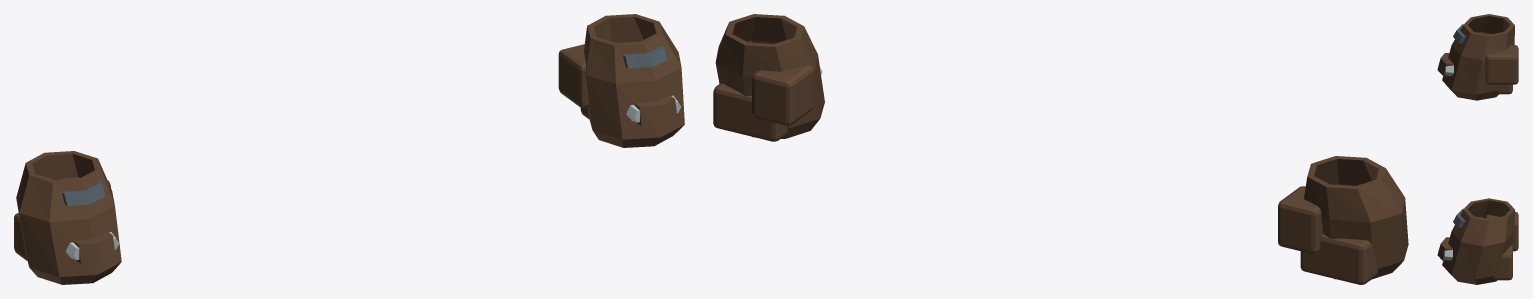
The model's file is studded_hands-male-thickHide.glb.
3 views of the same model, side by side, from view 1: azimuth 30°, elevation 25°; view 2: azimuth 150°, elevation 25°; view 3: azimuth 270°, elevation 25° (orthographic). The views are drawn at different scales.
Visible parts, largest first — view 1: Block hand armor -1, Block hand armor 1, Block thumb armor 1, Heavy hide binding Block hand armor 1, Heavy hide binding Block hand armor -1, Glove turned wrist seam 1, Glove turned wrist seam -1; view 2: Block hand armor -1, Block hand armor 1, Block thumb armor 1, Block hand curl armor -1, Block thumb armor -1, Block hand curl armor 1; view 3: Block hand armor 1, Block hand armor -1, Block thumb armor -1, Block hand curl armor 1, Block thumb armor 1, Heavy hide binding Block hand armor -1, Heavy hide binding Block hand armor 1, Block hand curl armor -1, Glove turned wrist seam -1, Glove turned wrist seam 1, Set rivet Block hand armor 1 1, Set rivet Block hand armor -1 1.
Part boxes in pixels (box(x1,y1,x2,y2)): Block hand armor -1: box(16, 151, 121, 284); Block hand armor 1: box(584, 14, 684, 147); Block thumb armor 1: box(558, 44, 588, 107); Heavy hide binding Block hand armor 1: box(634, 95, 677, 126); Heavy hide binding Block hand armor -1: box(73, 231, 115, 263); Glove turned wrist seam 1: box(623, 46, 667, 68); Glove turned wrist seam -1: box(62, 182, 105, 205); Block hand armor -1: box(1304, 156, 1408, 279); Block hand armor 1: box(715, 14, 824, 138); Block thumb armor 1: box(752, 65, 813, 125); Block hand curl armor -1: box(1300, 234, 1377, 284); Block thumb armor -1: box(1278, 186, 1322, 253); Block hand curl armor 1: box(713, 83, 787, 141); Block hand armor 1: box(1442, 198, 1514, 284); Block hand armor -1: box(1442, 14, 1514, 100); Block thumb armor -1: box(1485, 45, 1518, 84); Block hand curl armor 1: box(1492, 243, 1512, 280); Block thumb armor 1: box(1485, 211, 1518, 251); Heavy hide binding Block hand armor -1: box(1437, 53, 1453, 76); Heavy hide binding Block hand armor 1: box(1437, 237, 1452, 260); Block hand curl armor -1: box(1497, 84, 1512, 94); Glove turned wrist seam -1: box(1453, 24, 1465, 43); Glove turned wrist seam 1: box(1453, 208, 1465, 227); Set rivet Block hand armor 1 1: box(1444, 249, 1452, 260); Set rivet Block hand armor -1 1: box(1445, 65, 1453, 75).
Bounding box in the file's own units: 3.78 × 0.52 × 0.5995.
